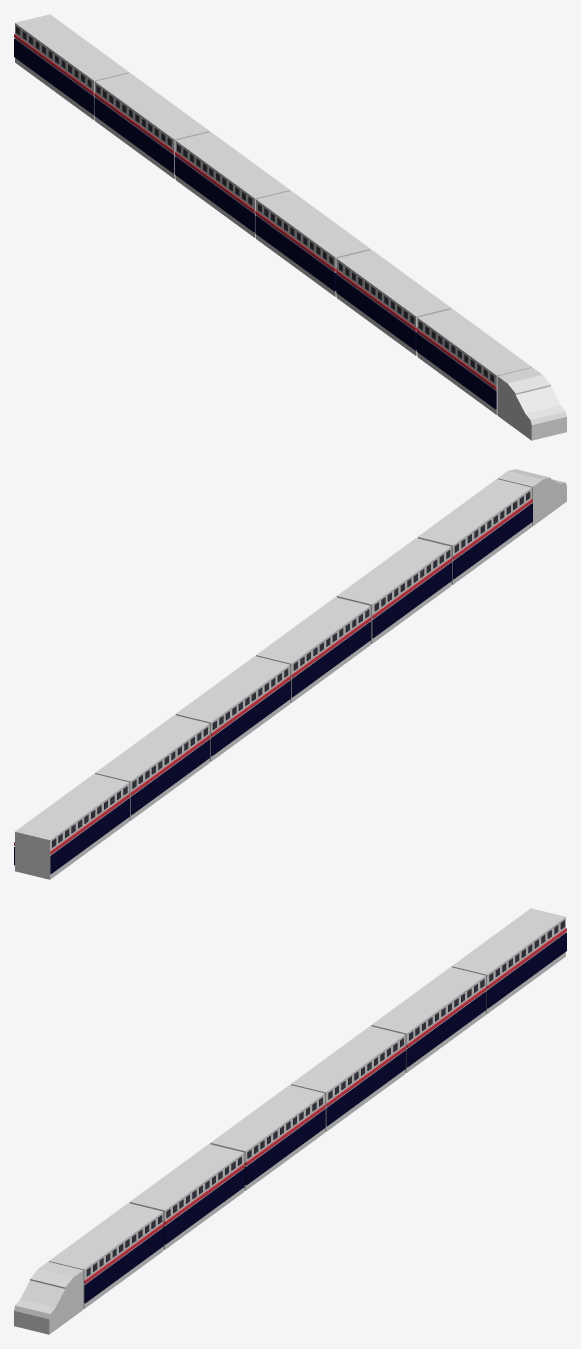
Rendered from SM_Train.fbx.
The picture shows the model from 3 angles, top to bottom: view 1: azimuth 30°, elevation 25°; view 2: azimuth 150°, elevation 25°; view 3: azimuth 330°, elevation 25°; orthographic projection.
Parts seen in each view (by area): view 1: Cube.007; view 2: Cube.007; view 3: Cube.007.
Boxes of the visible parts, <box> form: Cube.007: <box>14,14,566,440</box>; Cube.007: <box>14,469,566,879</box>; Cube.007: <box>14,908,566,1334</box>.
Bounding box in the file's own units: 211 × 214 × 5074.
